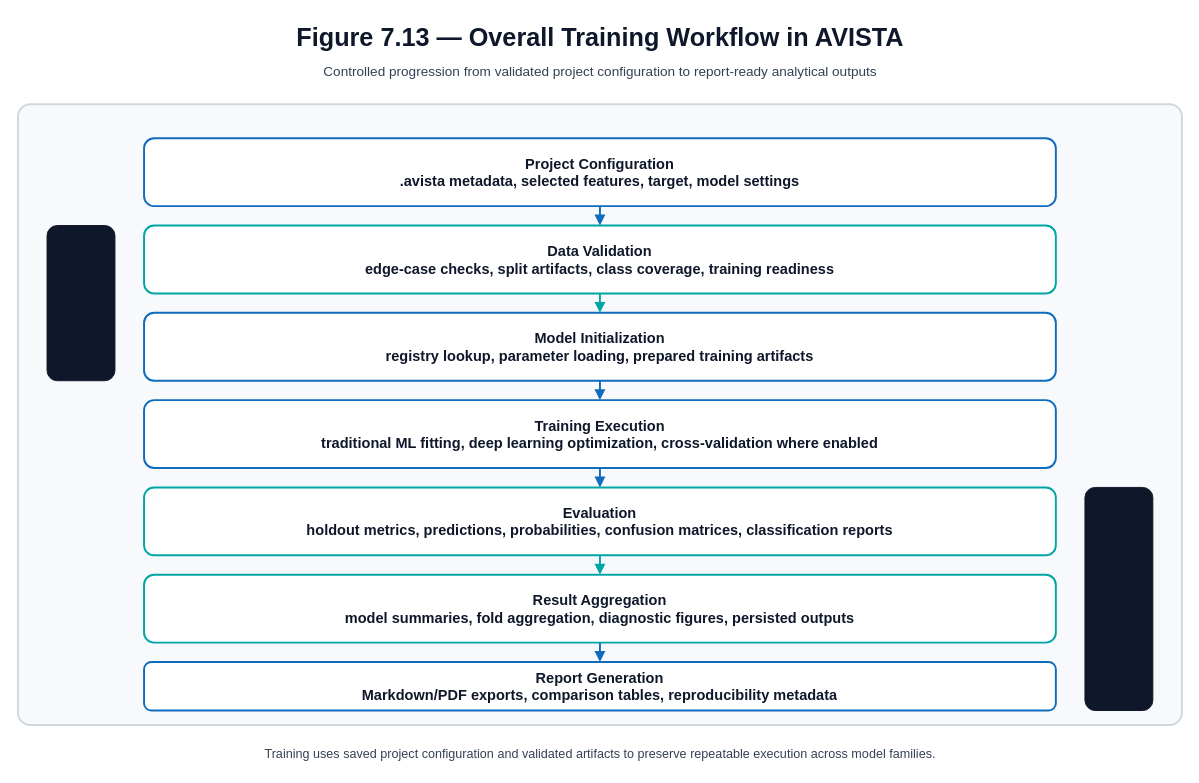
The diagram is 1199 pixels wide and 783 high, and some of its shapes have lost their labels. The box of each missing label's shape, as (x1, y1, x2, y2) in pixels:
Persistent Outputs: (1084, 486, 1153, 711)
Readiness Gate: (46, 225, 115, 381)
